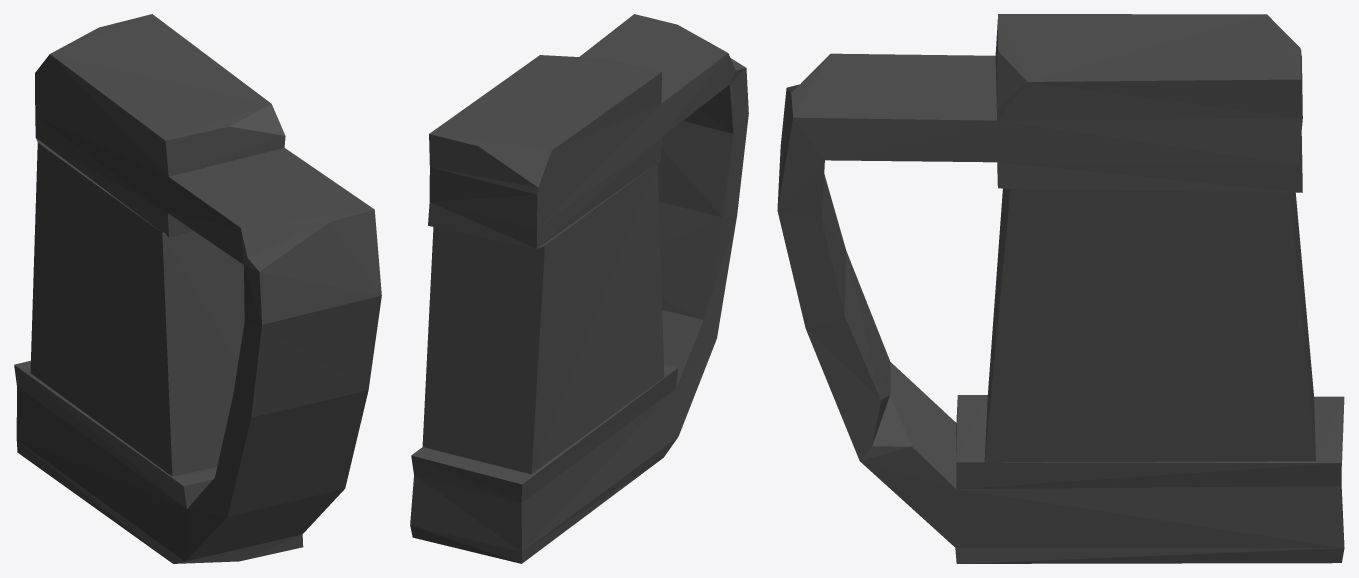
The model's file is SFV_Sign_Tavern.fbx.
3 views of the same model, side by side, from view 1: azimuth 30°, elevation 25°; view 2: azimuth 150°, elevation 25°; view 3: azimuth 270°, elevation 25° (orthographic). The views are drawn at different scales.
Visible parts, largest first — view 1: SFV_Sign_Tavern; view 2: SFV_Sign_Tavern; view 3: SFV_Sign_Tavern.
Part boxes in pixels (box(x1,y1,x2,y2)): SFV_Sign_Tavern: box(14, 14, 381, 563); SFV_Sign_Tavern: box(410, 14, 748, 563); SFV_Sign_Tavern: box(777, 14, 1344, 563).
Bounding box in the file's own units: 12.95 × 43.13 × 45.78.
